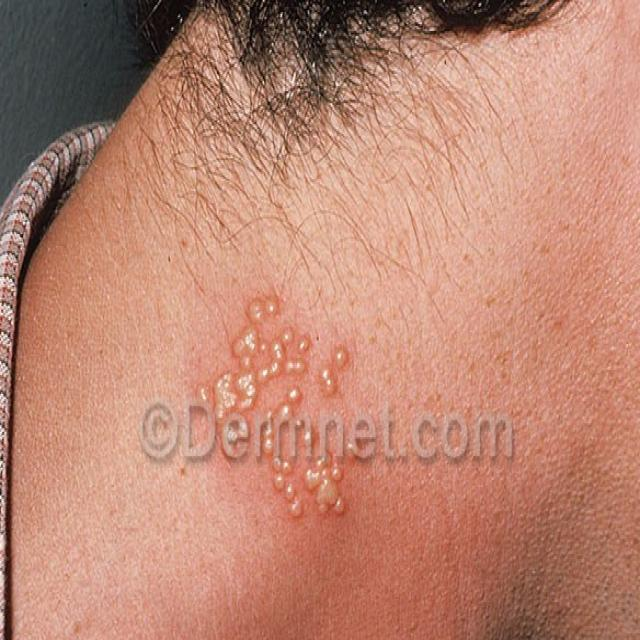Viral Infections: (192, 273, 373, 549)
